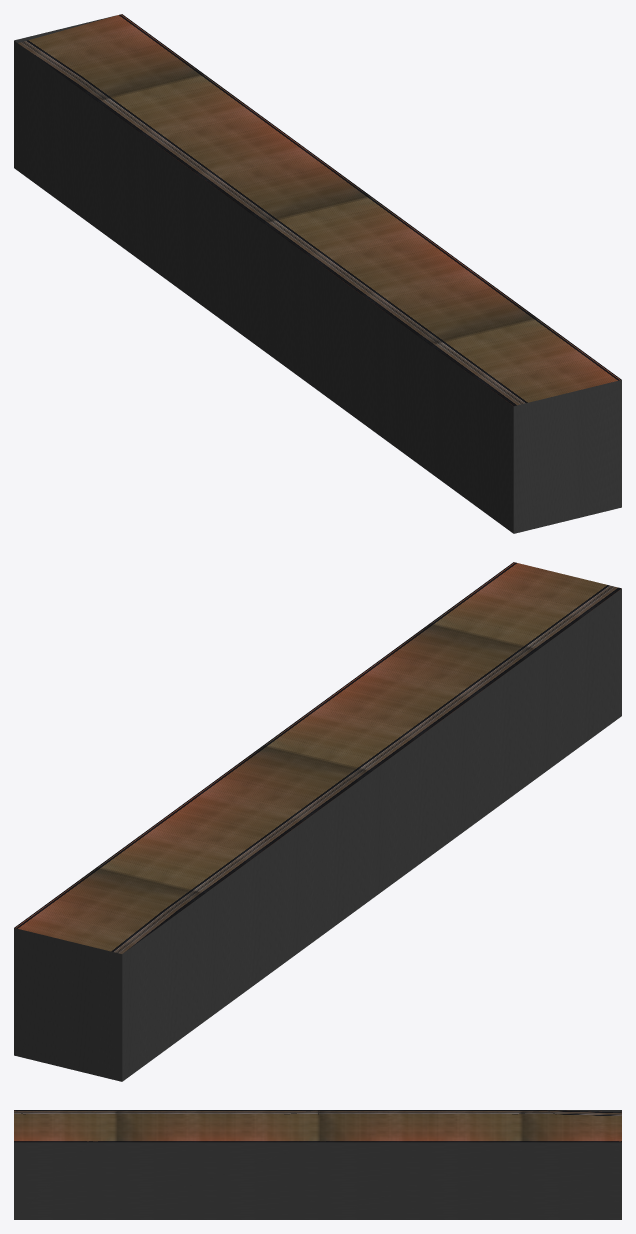
The model's file is interior flor strip.FBX.
The picture shows the model from 3 angles, top to bottom: view 1: azimuth 30°, elevation 25°; view 2: azimuth 150°, elevation 25°; view 3: azimuth 270°, elevation 25°; orthographic projection. The views are drawn at different scales.
Visible parts, largest first — view 1: strip base05, floor side strip 09; view 2: strip base05, floor side strip 09; view 3: strip base05, floor side strip 09.
Boxes of the visible parts, <box> form: strip base05: <box>14,15,621,533</box>; floor side strip 09: <box>18,14,621,405</box>; strip base05: <box>14,588,621,1081</box>; floor side strip 09: <box>14,562,621,953</box>; strip base05: <box>14,1110,621,1219</box>; floor side strip 09: <box>14,1110,621,1142</box>.
Bounding box in the file's own units: 70.87 × 79.9 × 567.
2 materials, 2 textured.
